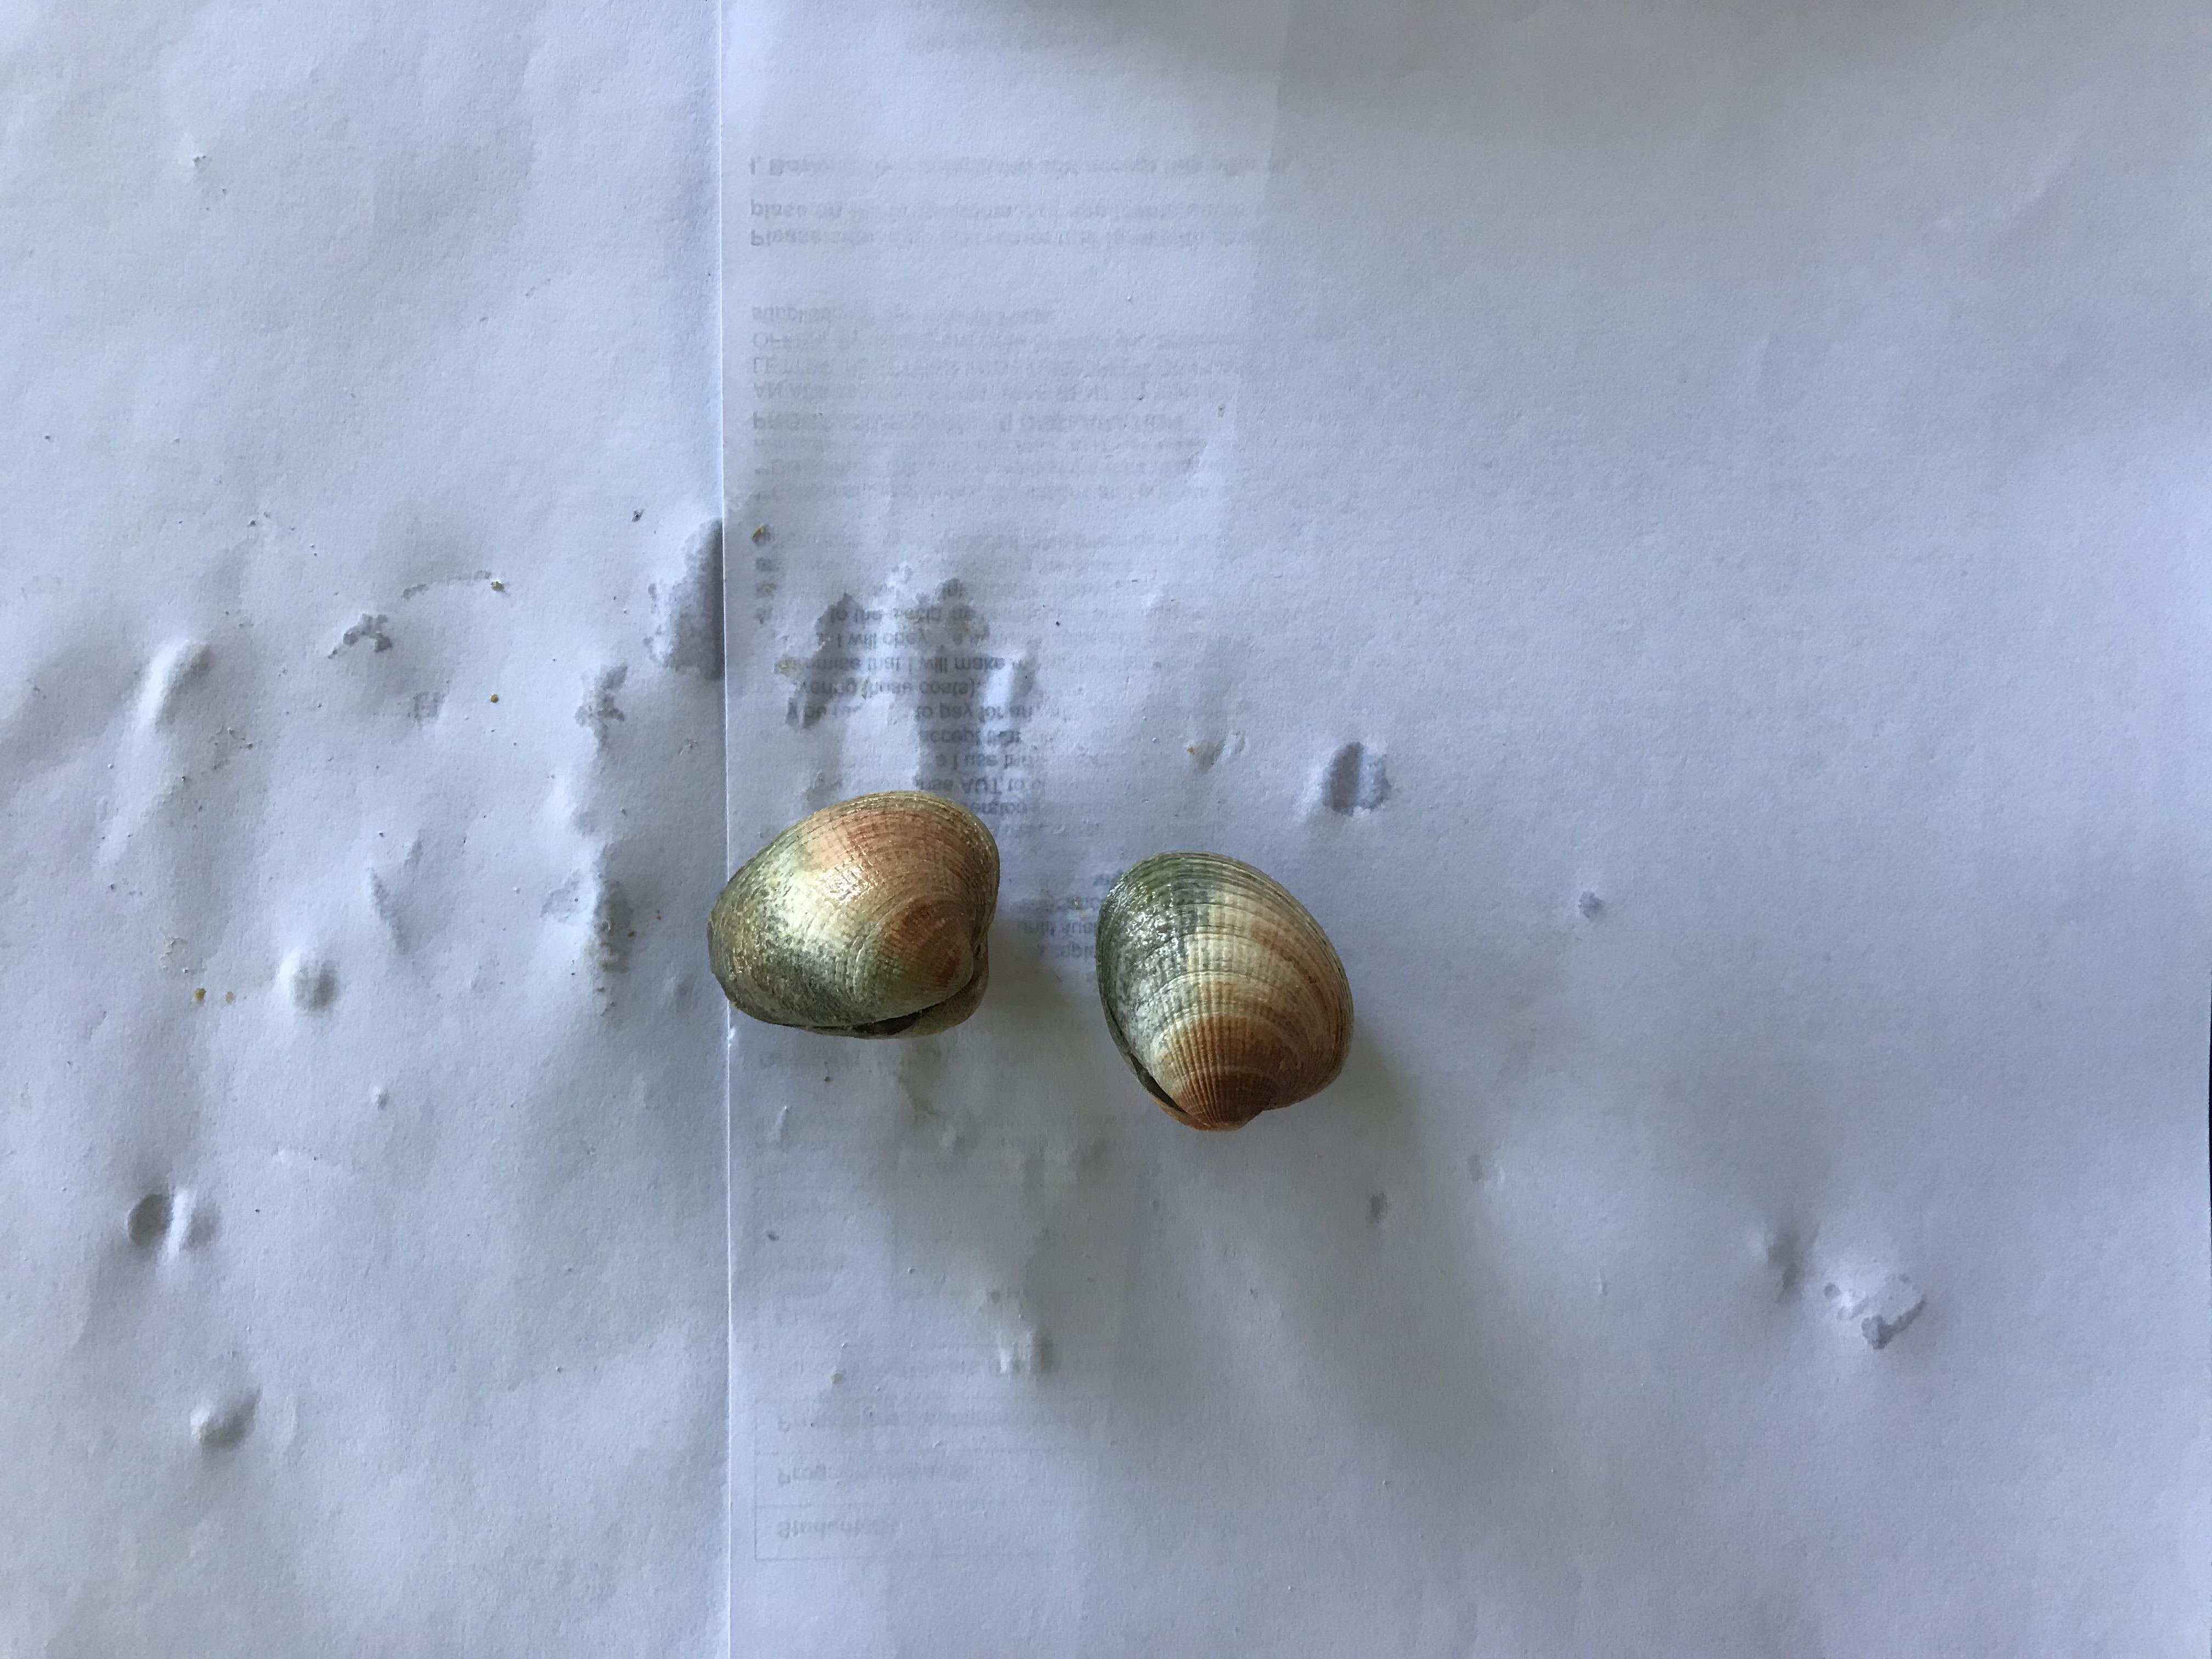cockle: (698, 782, 1007, 1046), (1092, 850, 1362, 1141)
